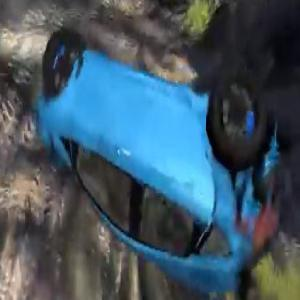fatal: (26, 16, 290, 300)
